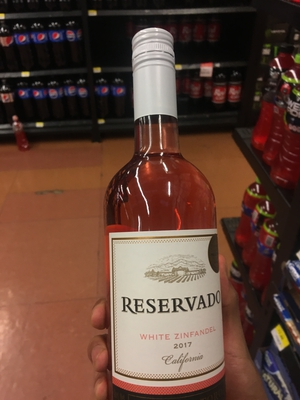reservado white zinfandel: (91, 26, 243, 400)
